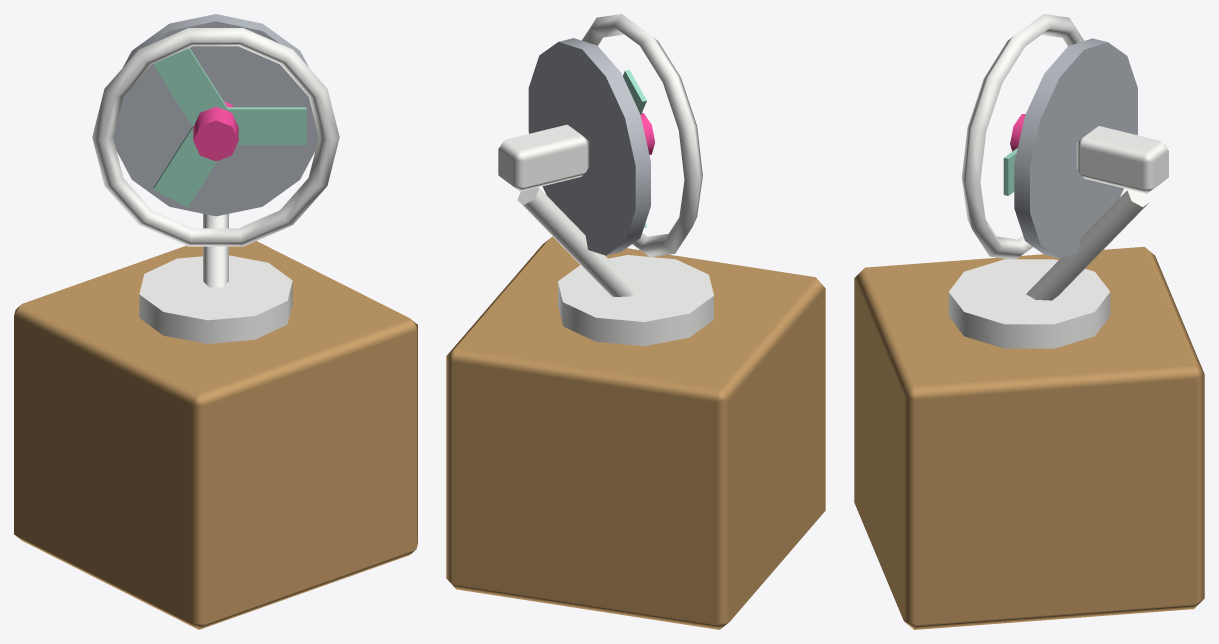
File: station_transport_ausstattung_3_0.glb
The picture shows the model from 3 angles, left to right: view 1: azimuth 30°, elevation 25°; view 2: azimuth 150°, elevation 25°; view 3: azimuth 270°, elevation 25°; orthographic projection. The views are drawn at different scales.
Parts seen in each view (by area): view 1: station_transport_ausstattung_3_0; view 2: station_transport_ausstattung_3_0; view 3: station_transport_ausstattung_3_0.
Part boxes in pixels (bbox=[...]): station_transport_ausstattung_3_0: bbox=[14, 14, 417, 629]; station_transport_ausstattung_3_0: bbox=[446, 14, 825, 629]; station_transport_ausstattung_3_0: bbox=[854, 14, 1204, 629].
Bounding box in the file's own units: 0.3897 × 0.6584 × 0.3897.
